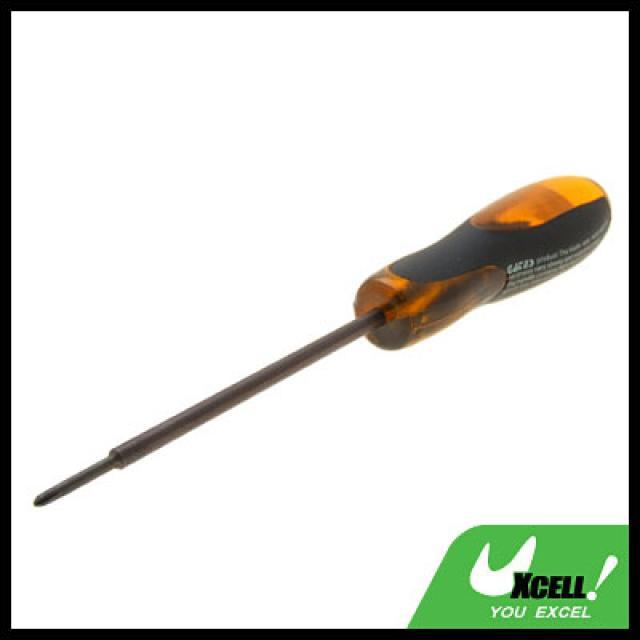screwdriver: (28, 160, 626, 520)
